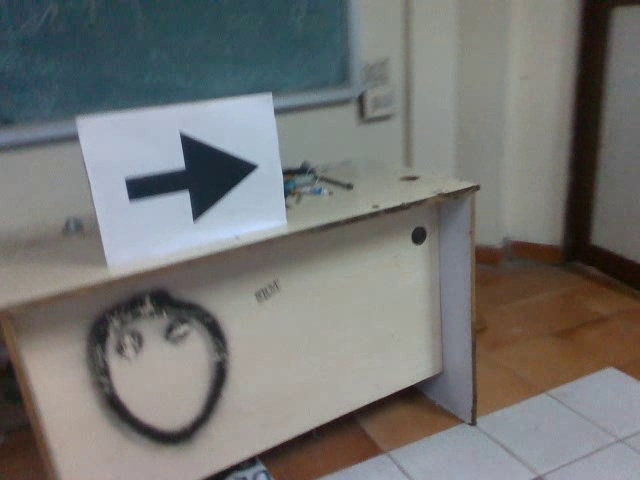Right: (109, 123, 262, 224)
